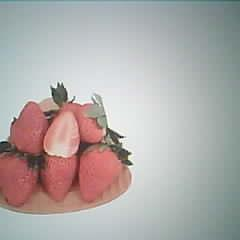straw-ripe: (79, 144, 123, 201), (0, 152, 40, 208)
